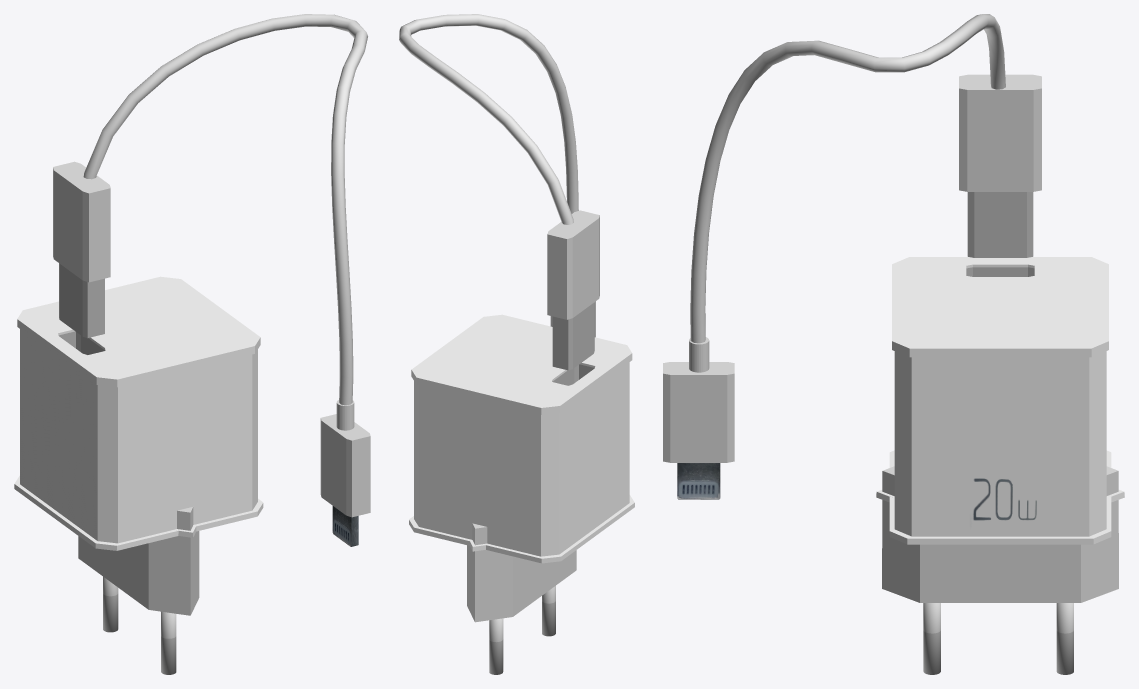
File: phone_type_c_charger.glb
The picture shows the model from 3 angles, left to right: view 1: azimuth 30°, elevation 25°; view 2: azimuth 150°, elevation 25°; view 3: azimuth 270°, elevation 25°; orthographic projection. The views are drawn at different scales.
Visible parts, largest first — view 1: Object_3, Object_6, Object_7, Object_2, Object_5, Object_4; view 2: Object_3, Object_6, Object_7, Object_5; view 3: Object_3, Object_6, Object_7, Object_2, Object_5, Object_4.
Boxes of the visible parts, bbox=[...] form: Object_3: bbox=[14, 276, 263, 550]; Object_6: bbox=[53, 14, 367, 596]; Object_7: bbox=[78, 507, 199, 638]; Object_2: bbox=[320, 414, 370, 517]; Object_5: bbox=[58, 263, 176, 674]; Object_4: bbox=[332, 506, 358, 546]; Object_3: bbox=[409, 314, 634, 563]; Object_6: bbox=[399, 14, 599, 642]; Object_7: bbox=[467, 523, 576, 622]; Object_5: bbox=[489, 302, 594, 674]; Object_3: bbox=[876, 257, 1124, 544]; Object_6: bbox=[690, 14, 1073, 633]; Object_7: bbox=[882, 466, 1118, 633]; Object_2: bbox=[663, 362, 734, 462]; Object_5: bbox=[923, 192, 1073, 674]; Object_4: bbox=[677, 463, 720, 499].
Bounding box in the file's own units: 1.33 × 3.02 × 1.78.
Materials: 7 (2 with a texture image).
